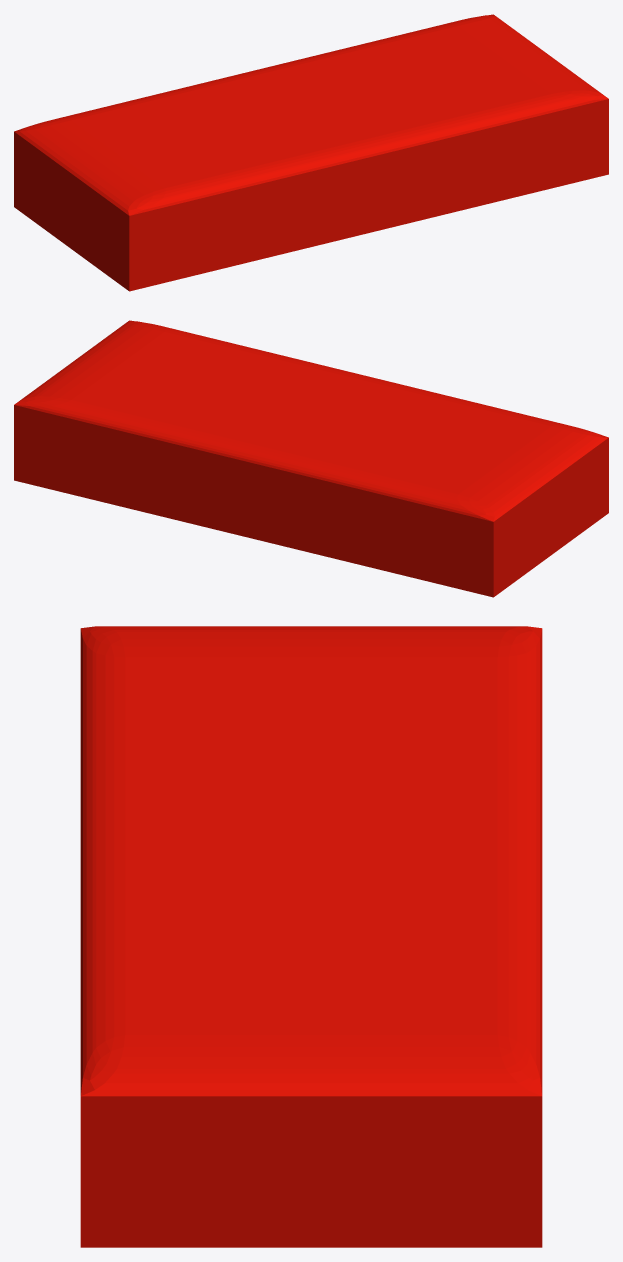
Rendered from submit button.fbx.
3 renders of one model, top to bottom at view 1: azimuth 30°, elevation 25°; view 2: azimuth 150°, elevation 25°; view 3: azimuth 270°, elevation 25°, orthographic. The views are drawn at different scales.
Parts seen in each view (by area): view 1: Cube; view 2: Cube; view 3: Cube.
Part boxes in pixels (bbox=[...]): Cube: bbox=[14, 14, 608, 291]; Cube: bbox=[14, 320, 608, 597]; Cube: bbox=[80, 626, 542, 1247].
Bounding box in the file's own units: 1200 × 200 × 500.
